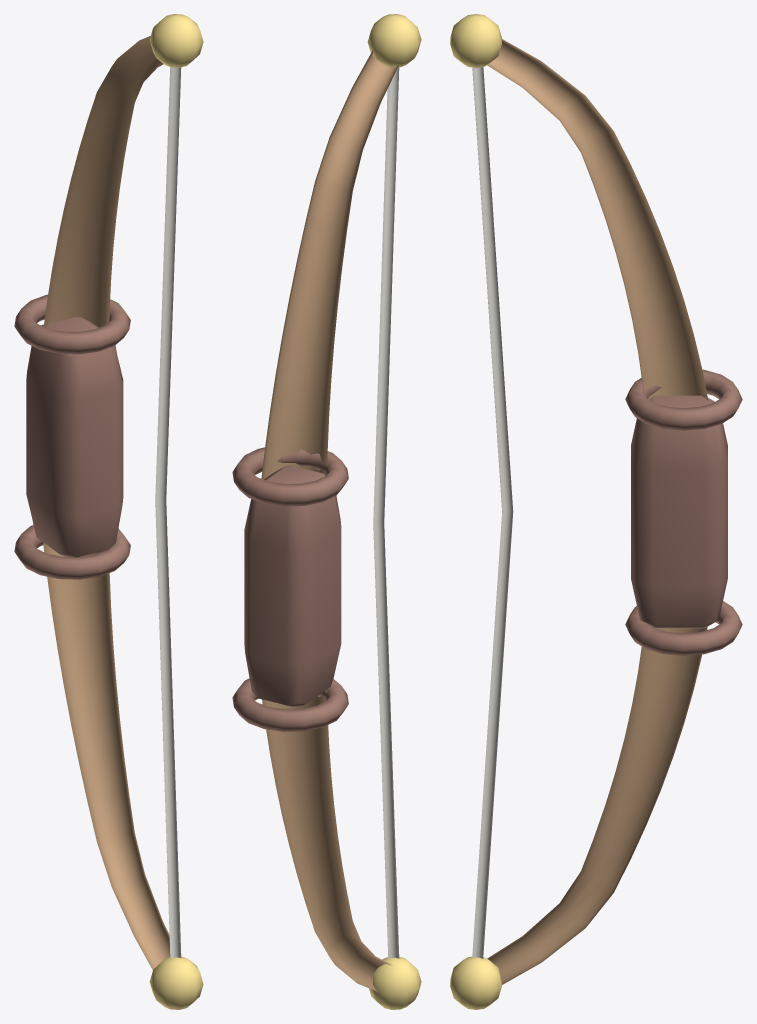
File: AmbushBow.glb
The picture shows the model from 3 angles, left to right: view 1: azimuth 30°, elevation 25°; view 2: azimuth 150°, elevation 25°; view 3: azimuth 270°, elevation 25°; orthographic projection.
Parts seen in each view (by area): view 1: Limbs, Grip, String, Tips; view 2: Limbs, Grip, String, Tips; view 3: Limbs, Grip, String, Tips.
Boxes of the visible parts, x1=… form: Limbs: x1=43, y1=36, x2=170, y2=969; Grip: x1=14, y1=294, x2=130, y2=579; String: x1=155, y1=67, x2=181, y2=958; Tips: x1=149, y1=14, x2=203, y2=1009; Limbs: x1=261, y1=50, x2=398, y2=991; Grip: x1=232, y1=447, x2=348, y2=731; String: x1=373, y1=67, x2=399, y2=959; Tips: x1=367, y1=14, x2=421, y2=1009; Limbs: x1=487, y1=39, x2=708, y2=984; Grip: x1=625, y1=369, x2=742, y2=655; String: x1=472, y1=67, x2=513, y2=960; Tips: x1=450, y1=14, x2=501, y2=1009.
Size of the model in its own units: 0.52 by 4.84 by 1.29.
